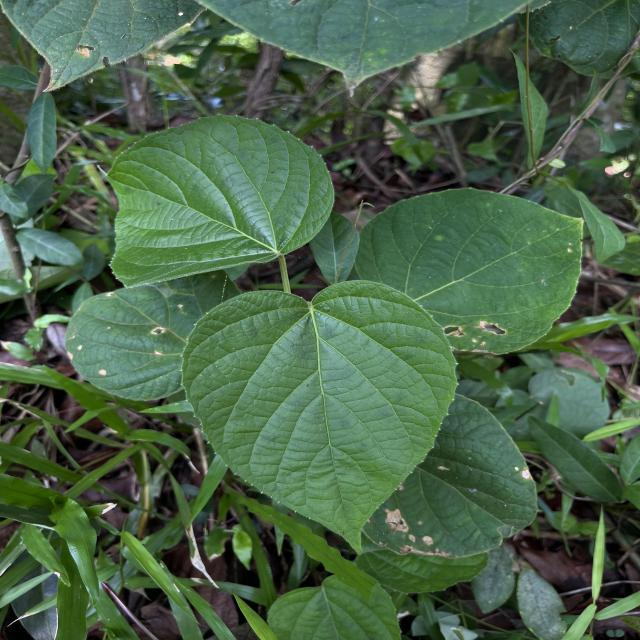Clerodendrum infortunatum: (178, 280, 464, 558), (95, 112, 338, 290), (353, 184, 589, 358)
